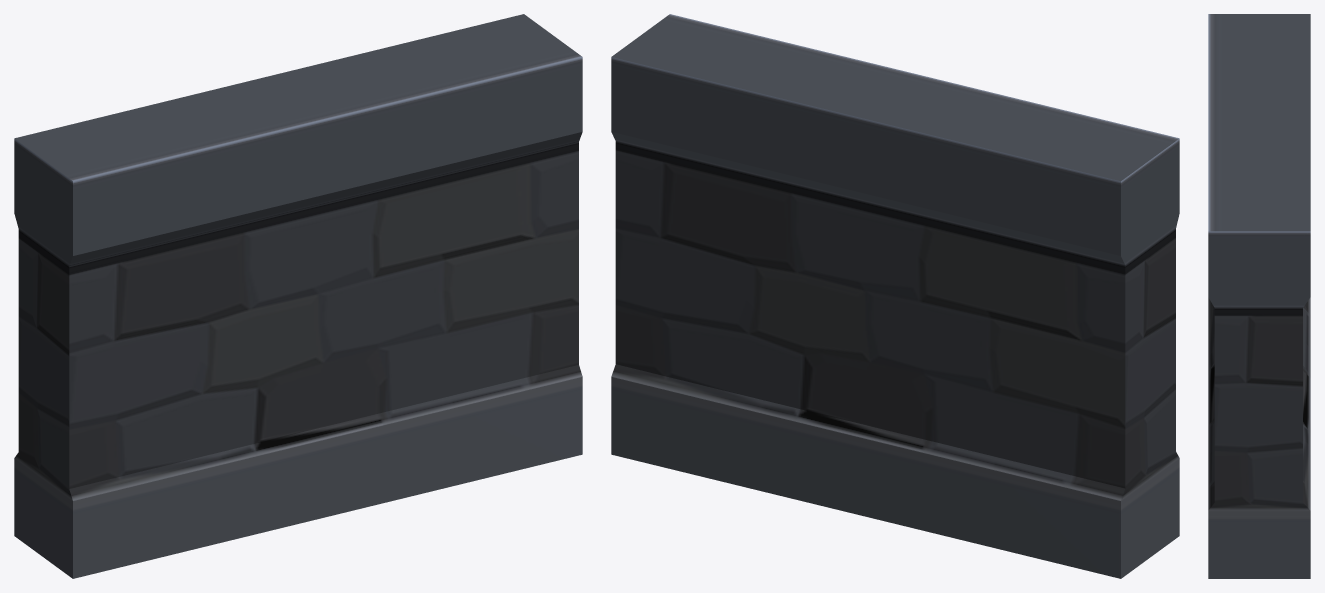
Rendered from wall_01.FBX.
The picture shows the model from 3 angles, left to right: view 1: azimuth 30°, elevation 25°; view 2: azimuth 150°, elevation 25°; view 3: azimuth 270°, elevation 25°; orthographic projection. The views are drawn at different scales.
Visible parts, largest first — view 1: wall_01; view 2: wall_01; view 3: wall_01.
Part boxes in pixels (<box>): wall_01: <box>14,14,582,578</box>; wall_01: <box>611,14,1179,578</box>; wall_01: <box>1208,14,1310,578</box>.
Size of the model in its own units: 100 by 74.59 by 19.96.
